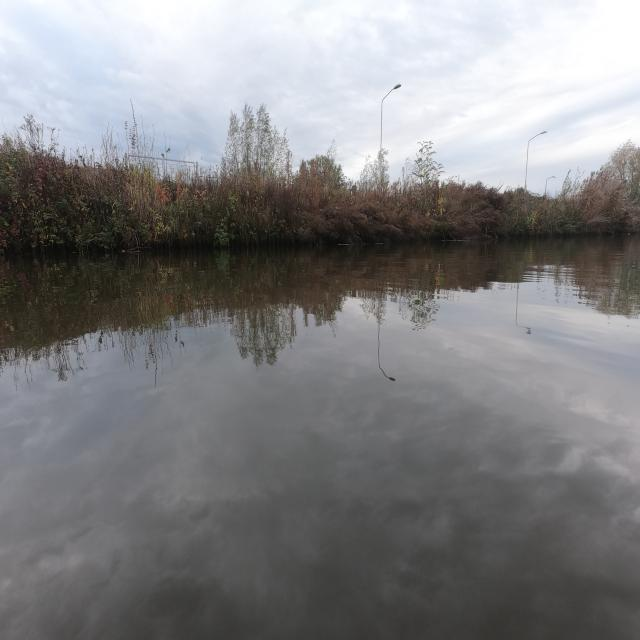reed: (0, 105, 640, 253)
sky: (0, 2, 639, 184)
water: (1, 239, 638, 639)
